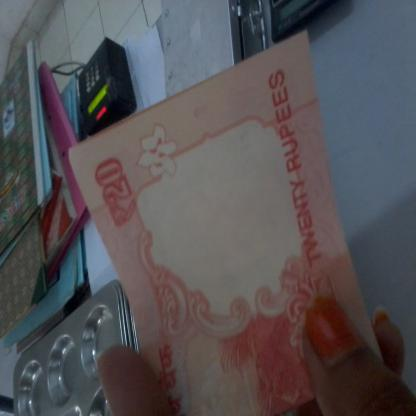Old20Back: (96, 70, 335, 414)
